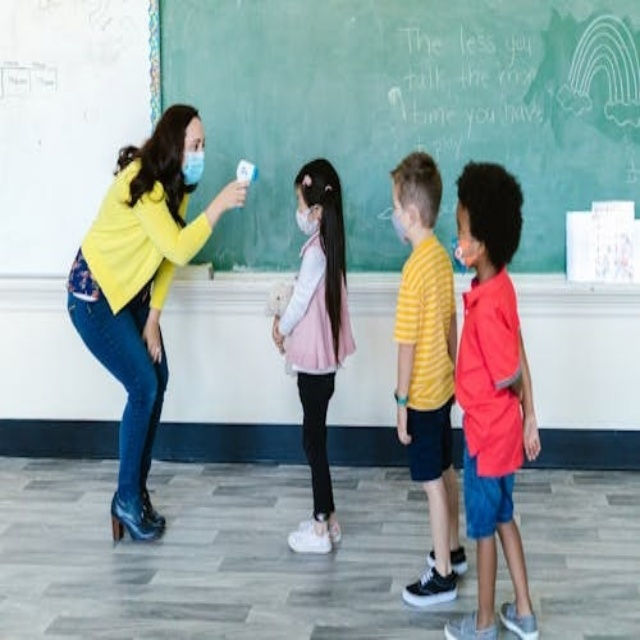Mascara: (452, 233, 484, 271), (174, 150, 209, 183), (384, 208, 413, 242), (292, 208, 316, 238)
Sin_gafas: (178, 131, 209, 146), (387, 190, 403, 208), (451, 217, 467, 233), (291, 194, 310, 206)
Sin_guantes: (516, 406, 544, 469), (388, 394, 419, 444), (142, 314, 163, 363), (271, 314, 287, 352)
